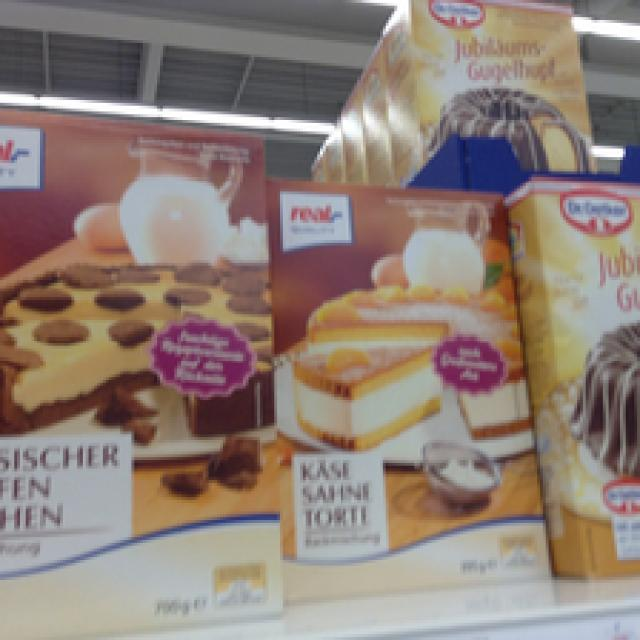groceries: (0, 106, 277, 608), (260, 171, 549, 586), (386, 0, 594, 180)
